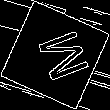M_W: (23, 24, 87, 86)
